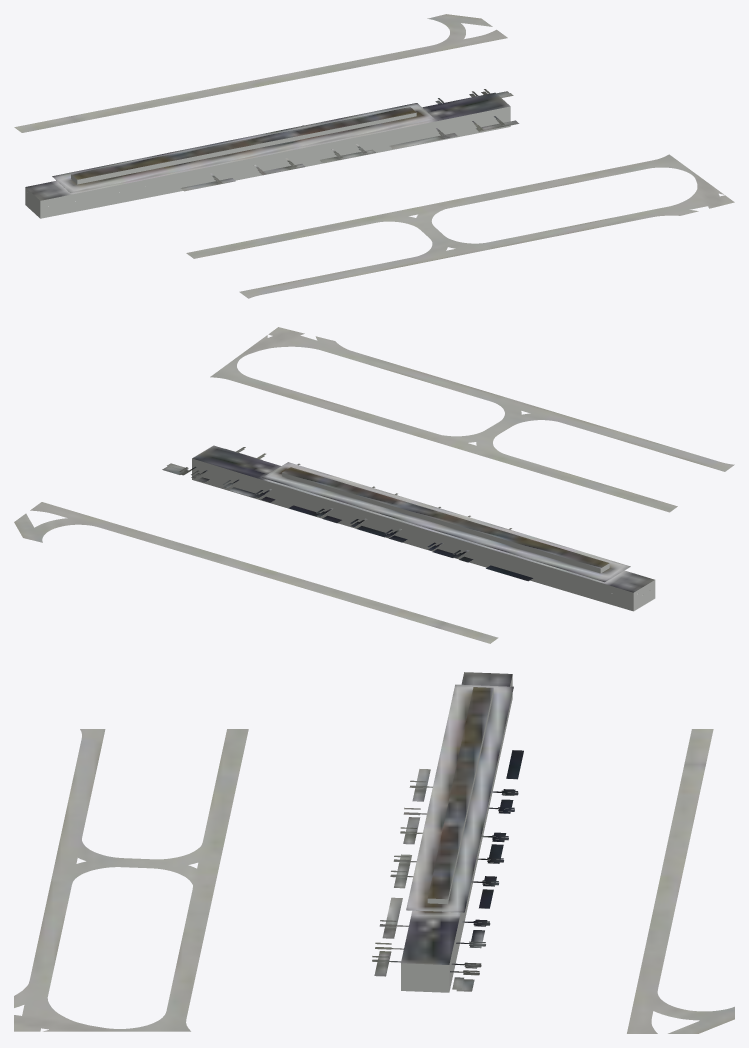
Rendered from LSZH_1_0.glb.
3 renders of one model, top to bottom at view 1: azimuth 30°, elevation 25°; view 2: azimuth 150°, elevation 25°; view 3: azimuth 270°, elevation 25°, orthographic. The views are drawn at different scales.
Parts seen in each view (by area): view 1: pavement_LSZH_pavement_5368_2514, building_644a97243913bab6, building_830fd39e898e1511, building_0e2db6e265f61684; view 2: pavement_LSZH_pavement_5368_2514, building_830fd39e898e1511, building_644a97243913bab6, building_0e2db6e265f61684; view 3: pavement_LSZH_pavement_5368_2514, building_830fd39e898e1511, building_644a97243913bab6, building_0e2db6e265f61684, building_e6f87a033d7b0179.
Boxes of the visible parts, x1,y1,x2,y2 form: pavement_LSZH_pavement_5368_2514: (14,14,734,298); building_644a97243913bab6: (25,106,510,218); building_830fd39e898e1511: (25,92,510,200); building_0e2db6e265f61684: (302,98,482,162); pavement_LSZH_pavement_5368_2514: (14,327,734,643); building_830fd39e898e1511: (192,445,654,592); building_644a97243913bab6: (192,458,655,611); building_0e2db6e265f61684: (223,453,397,526); pavement_LSZH_pavement_5368_2514: (14,729,734,1033); building_830fd39e898e1511: (400,672,523,964); building_644a97243913bab6: (400,675,517,992); building_0e2db6e265f61684: (375,854,503,949); building_e6f87a033d7b0179: (372,951,481,991).
Size of the model in its own units: 571 by 28.39 by 500.
Materials: 3 (2 with a texture image).
